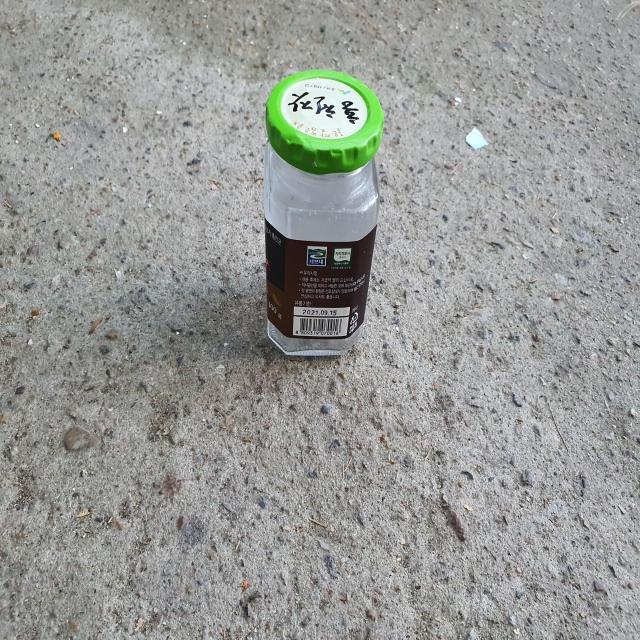glass: (263, 69, 384, 356)
